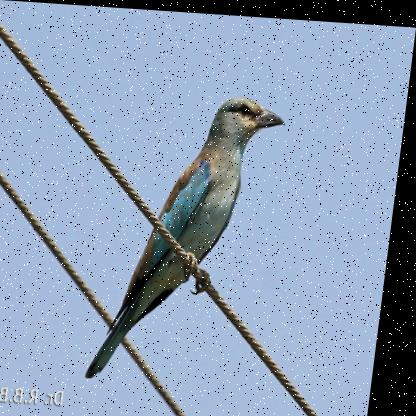Burung: (92, 85, 293, 385)
